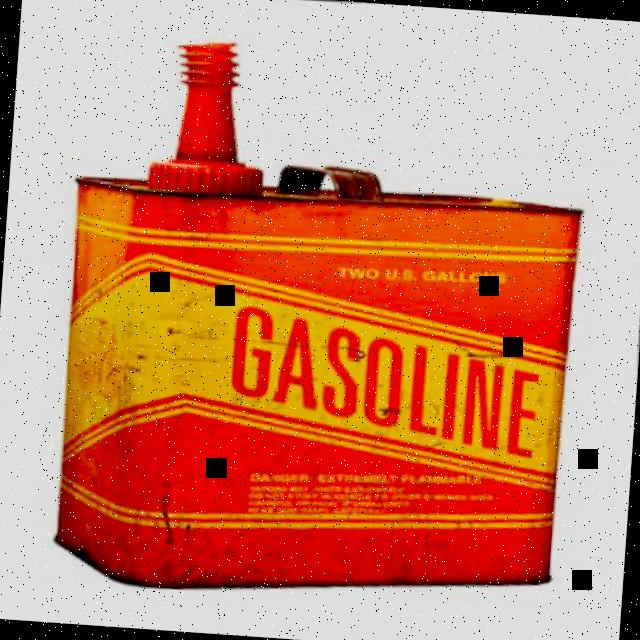chemical_plastic_gallon: (39, 90, 592, 622)
